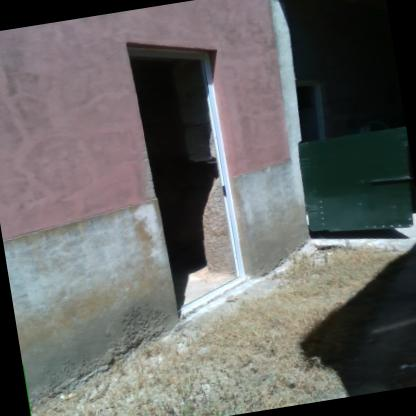closed: (250, 0, 415, 276)
semi: (115, 21, 267, 318)
